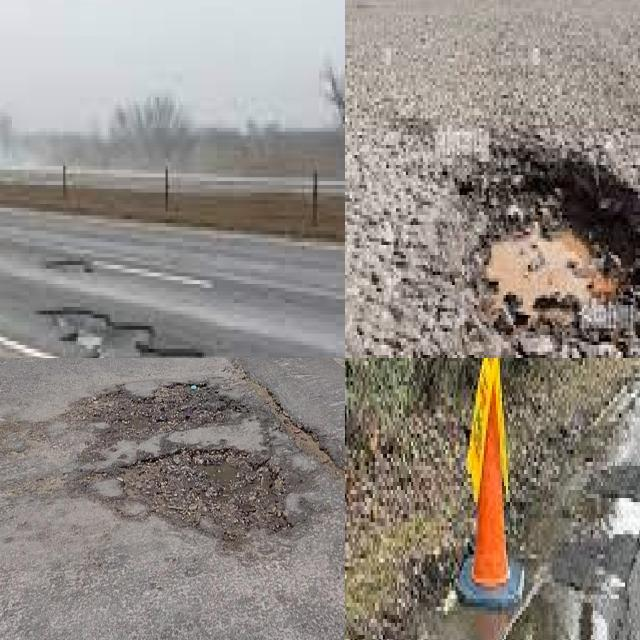Pothole: (467, 162, 640, 358), (462, 498, 640, 640), (126, 452, 283, 542), (38, 307, 213, 358), (86, 378, 228, 439)
